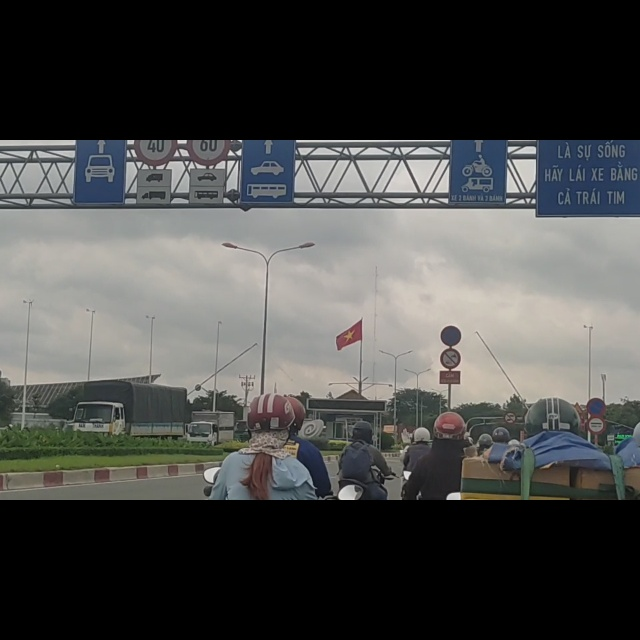bien_nguy_hiem: (134, 1, 179, 46), (187, 1, 230, 45), (441, 329, 463, 367), (440, 371, 461, 409), (585, 457, 607, 489), (586, 493, 607, 521), (502, 484, 517, 505)
